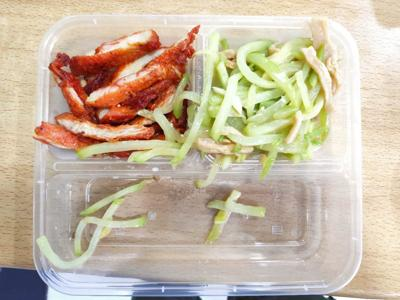cst: (212, 39, 329, 155)
r3: (61, 44, 184, 145)
